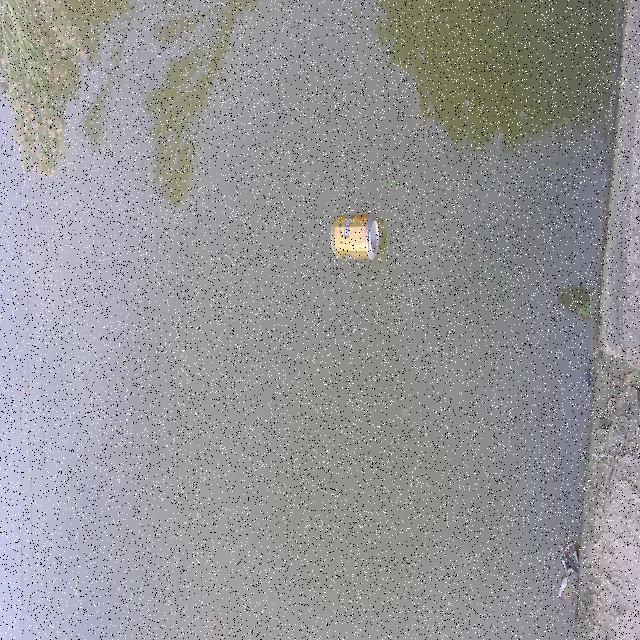Can: (328, 212, 385, 264)
